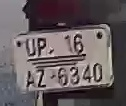0: (92, 63, 104, 83)
1: (64, 34, 74, 54)
3: (69, 66, 80, 87)
4: (82, 62, 93, 83)
6: (73, 35, 86, 53), (57, 66, 68, 87)
A: (21, 69, 38, 90)
P: (37, 36, 47, 56)
U: (23, 38, 38, 59)
Z: (35, 67, 48, 89)
